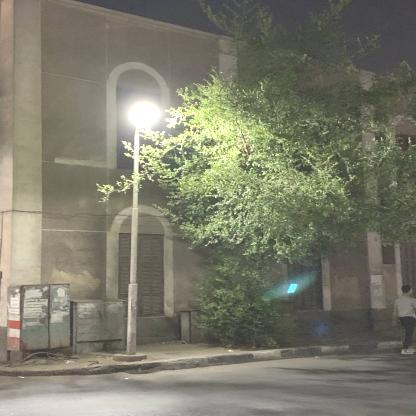light_pole: (125, 103, 159, 355)
